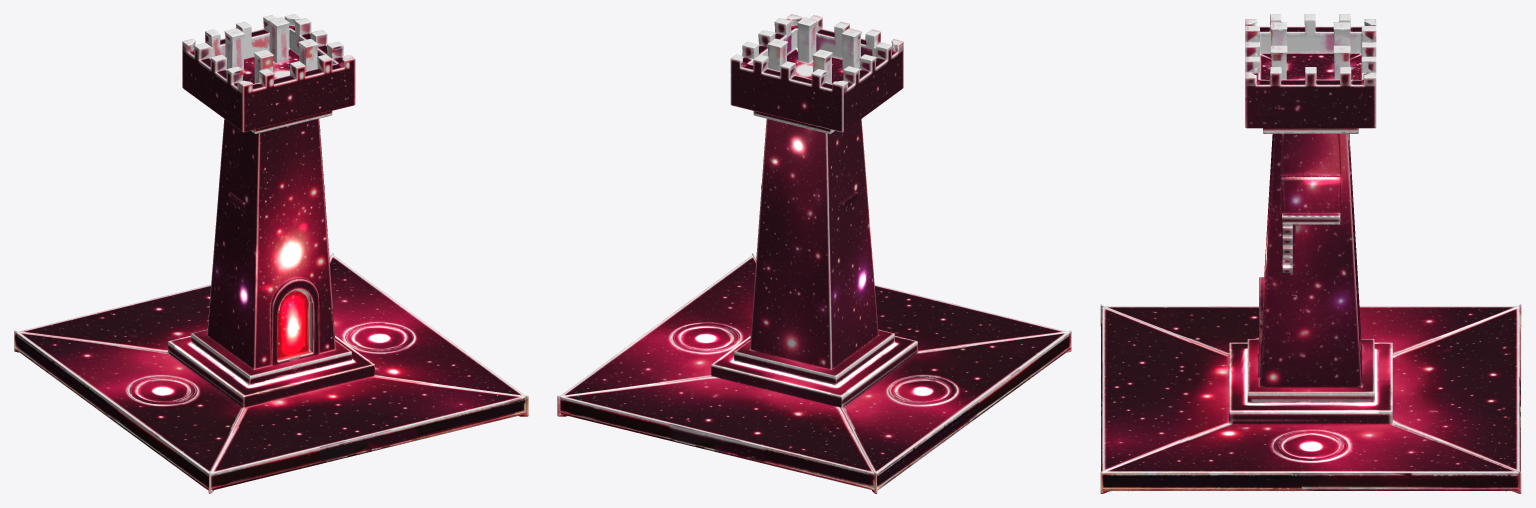
File: Meshy_AI_Cosmic_Citadel_1017073751_texture.fbx
3 renders of one model, left to right at view 1: azimuth 30°, elevation 25°; view 2: azimuth 150°, elevation 25°; view 3: azimuth 270°, elevation 25°, orthographic. The views are drawn at different scales.
Parts seen in each view (by area): view 1: Mesh_0; view 2: Mesh_0; view 3: Mesh_0.
Part boxes in pixels (x1=…): Mesh_0: x1=14, y1=14, x2=528, y2=493; Mesh_0: x1=557, y1=14, x2=1071, y2=493; Mesh_0: x1=1100, y1=14, x2=1521, y2=493.
Size of the model in its own units: 179 by 186 by 190.
Materials: 1 (1 with a texture image).
